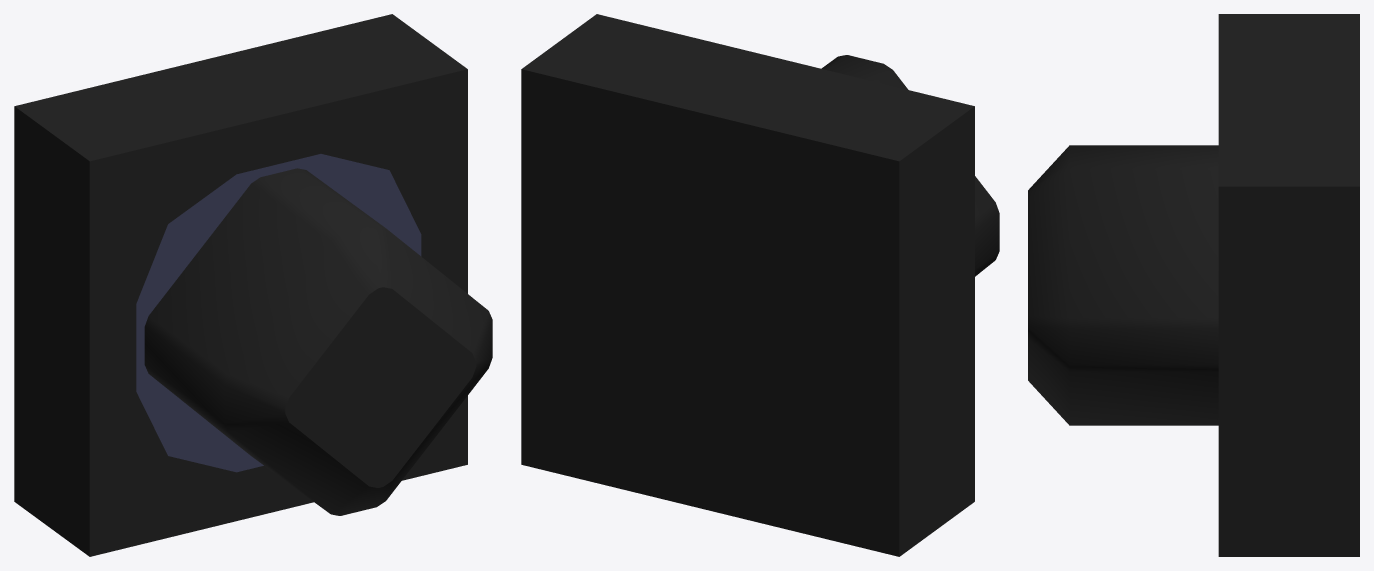
File: BUTTon.fbx
3 renders of one model, left to right at view 1: azimuth 30°, elevation 25°; view 2: azimuth 150°, elevation 25°; view 3: azimuth 270°, elevation 25°, orthographic. The views are drawn at different scales.
Visible parts, largest first — view 1: BUTTon; view 2: BUTTon; view 3: BUTTon.
Boxes of the visible parts, <box> form: BUTTon: <box>14,14,492,556</box>; BUTTon: <box>521,14,999,556</box>; BUTTon: <box>1028,14,1359,556</box>.
Bounding box in the file's own units: 143 × 143 × 116.
